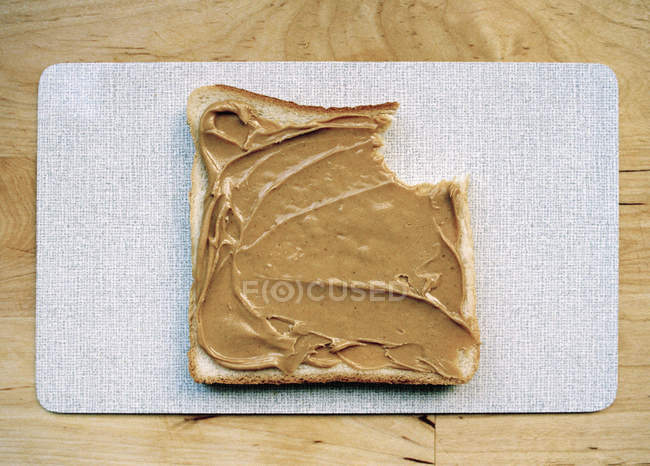slice of bread: (208, 93, 480, 386)
